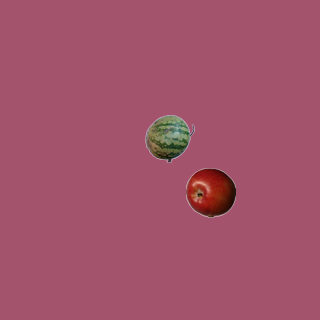Apple Braeburn: (185, 167, 235, 217)
Watermelon: (144, 113, 194, 163)
